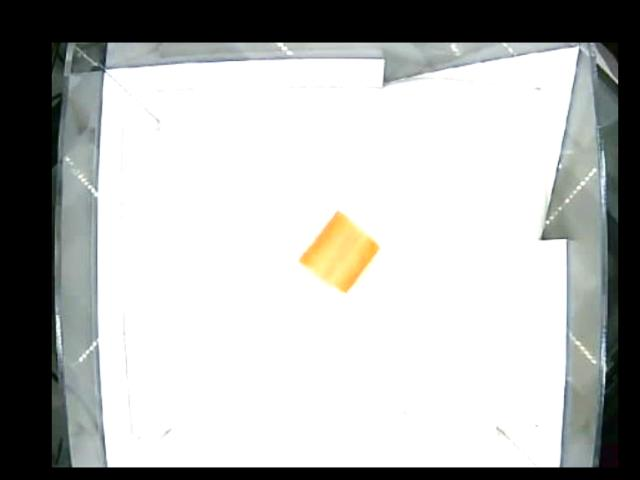Carrot: (301, 210, 380, 290)
